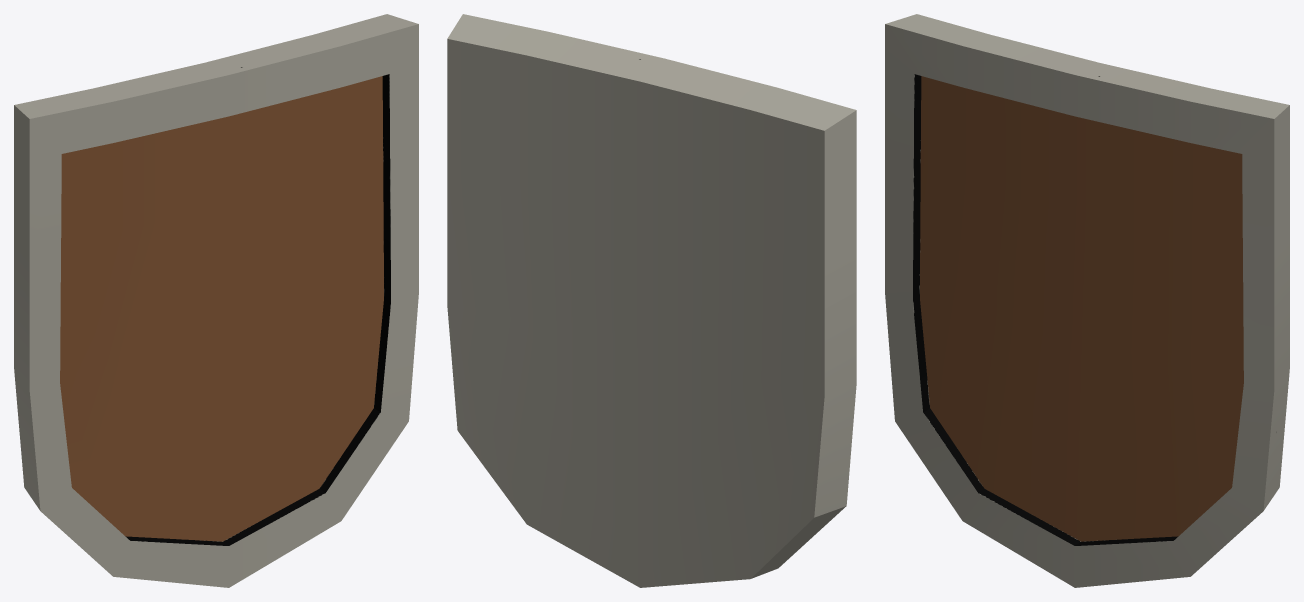
Rendered from Shield.fbx.
The picture shows the model from 3 angles, left to right: view 1: azimuth 30°, elevation 25°; view 2: azimuth 150°, elevation 25°; view 3: azimuth 330°, elevation 25°; orthographic projection.
Parts seen in each view (by area): view 1: Shield; view 2: Shield; view 3: Shield.
Boxes of the visible parts, <box> form: Shield: <box>14,14,418,587</box>; Shield: <box>447,14,856,587</box>; Shield: <box>885,14,1289,587</box>.
Bounding box in the file's own units: 177 × 223 × 22.4.
Materials: 1 (1 with a texture image).
